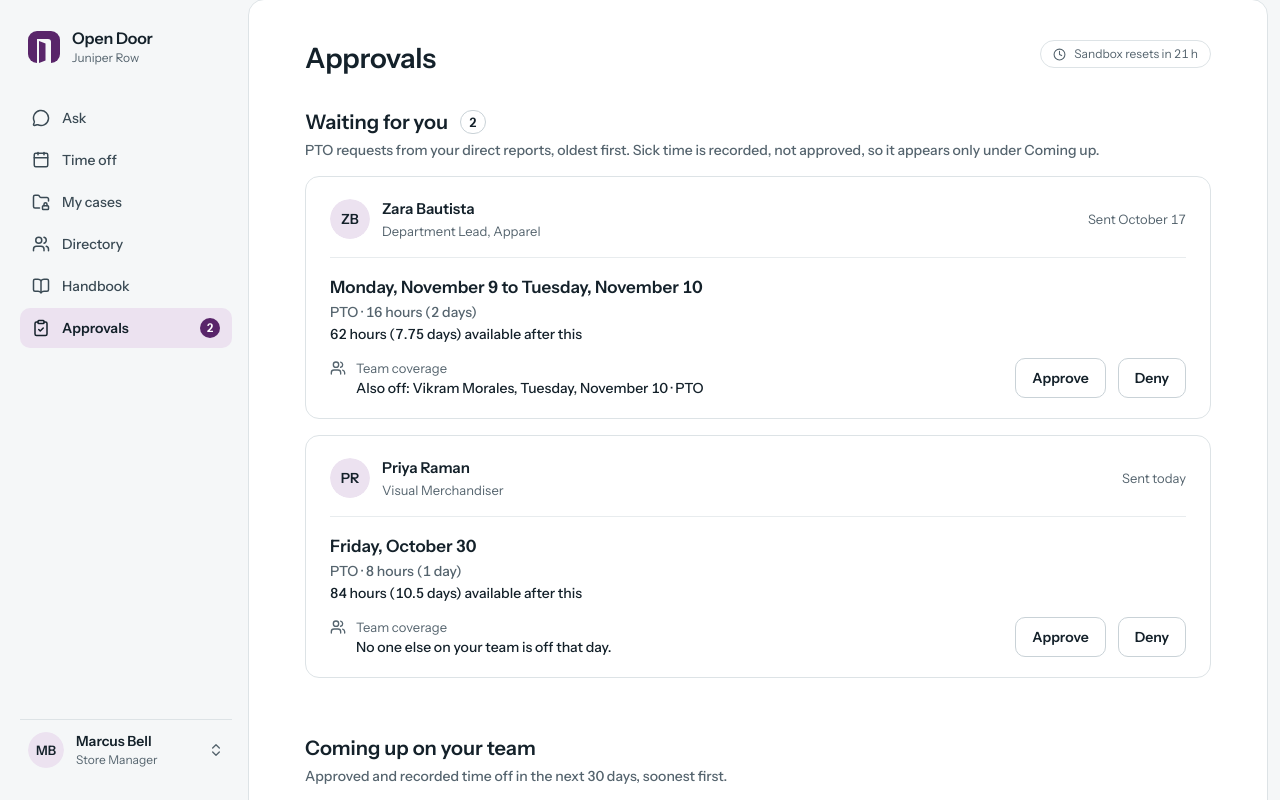
it: Approvals: the dialogs › opens the approve dialog with focus on Go back, and Go back returns focus to the button
The width and height of the screenshot is (1280, 800).
(page scrolled)
Expected: the heading "Waiting for you 2" is shown, [305,110,486,134]
Click the button with aria-label "Approve Zara Bautista’s PTO, November 9 to 10" at (1060, 378), box [1015,358,1106,398]
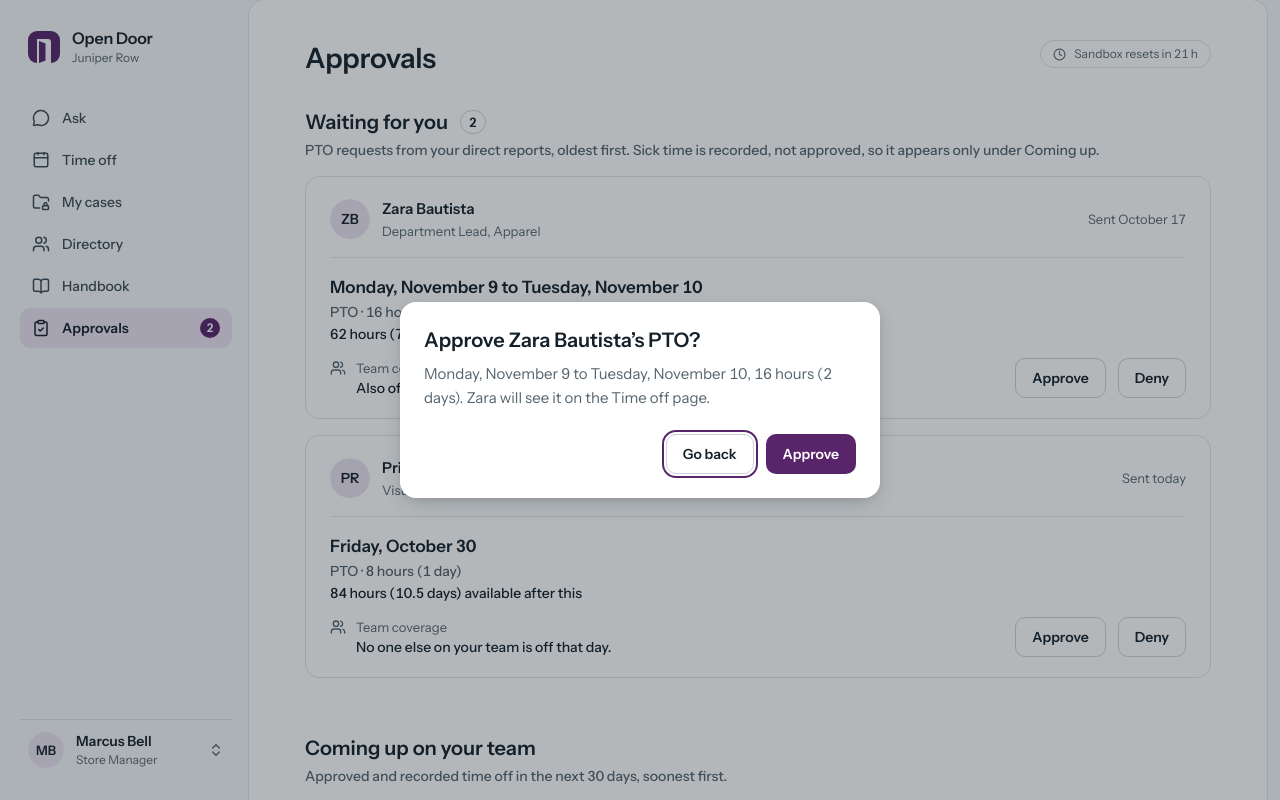
Expected: the text "Monday, November 9 to Tuesday, November 10, 16 hours" is shown, [424,364,832,407]
Click the button "Go back" at (710, 454), box [666,434,754,474]
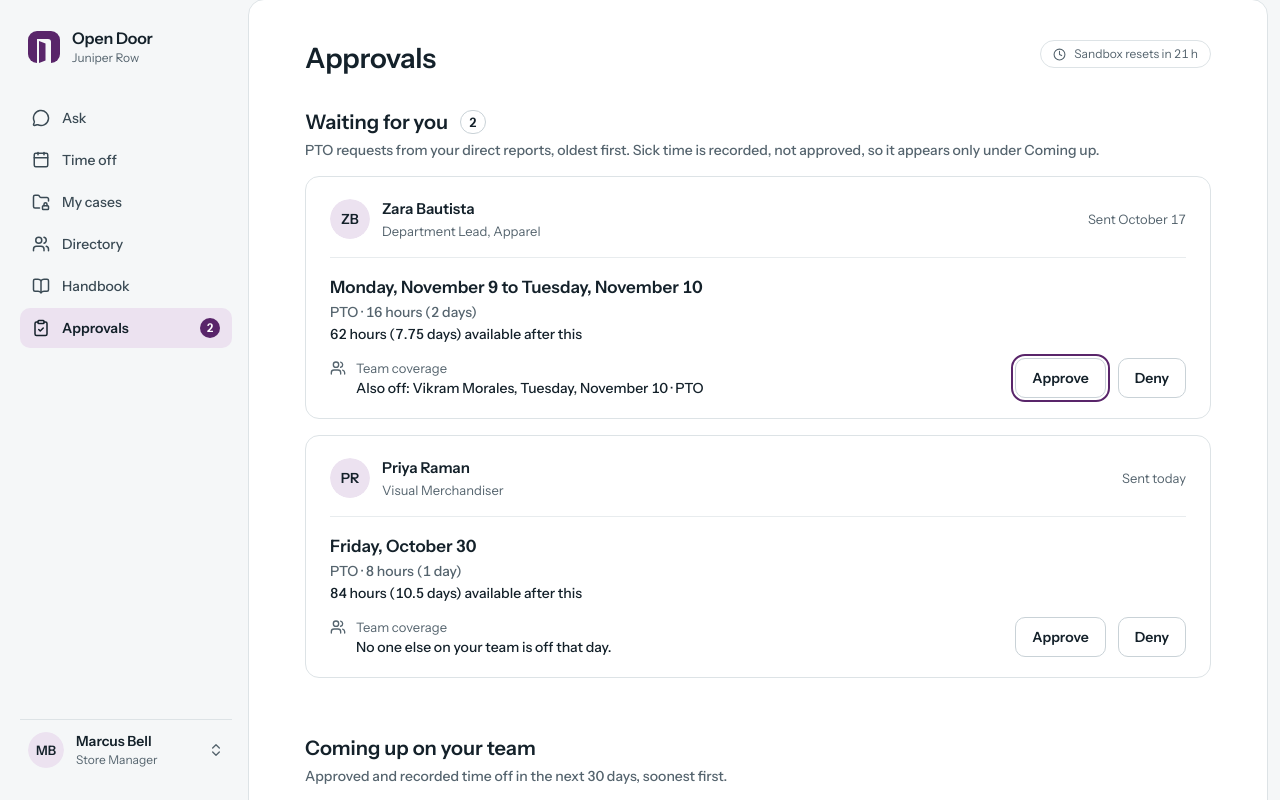
Expected: the dialog is gone
